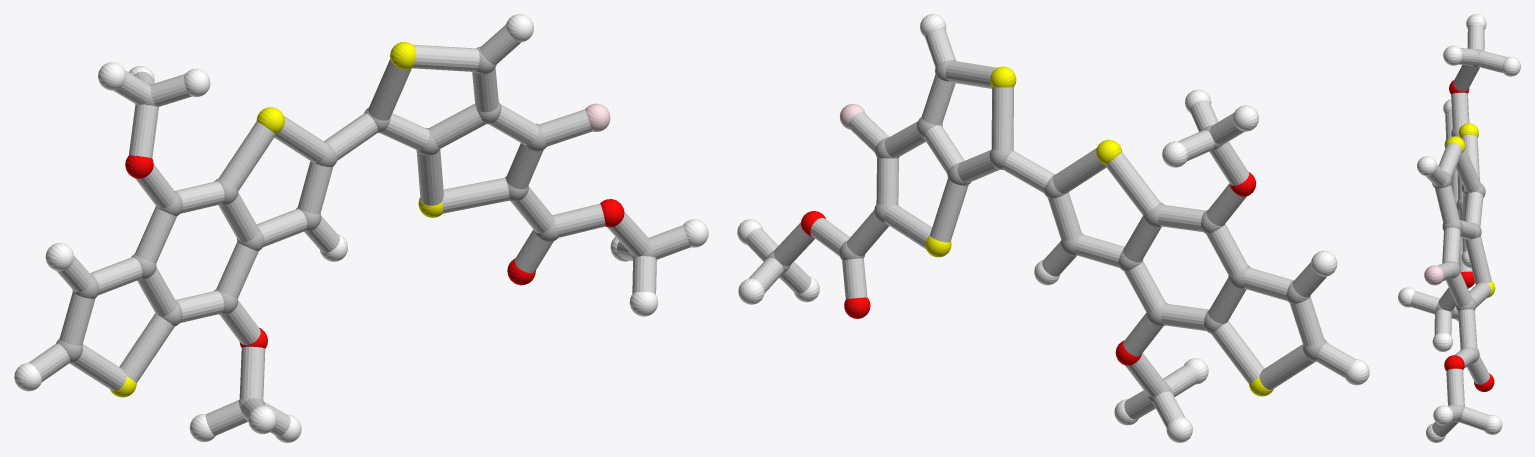
Rendered from Dimethoxy_Benzodithiophene_Phi_25_Theta_190_Methylcarbonyl_3_Fluoro_Thienothiophene.glb.
The picture shows the model from 3 angles, left to right: view 1: azimuth 30°, elevation 25°; view 2: azimuth 150°, elevation 25°; view 3: azimuth 270°, elevation 25°; orthographic projection. The views are drawn at different scales.
Visible parts, largest first — view 1: grp15205, grp8689, grp1, grp7241, grp13395; view 2: grp15205, grp8689, grp1, grp7241, grp13395; view 3: grp15205, grp8689, grp1, grp13395, grp7241, grp14843.
Boxes of the visible parts, x1=… form: grp15205: x1=28, y1=25, x2=690, y2=436; grp8689: x1=14, y1=14, x2=708, y2=442; grp1: x1=56, y1=46, x2=655, y2=410; grp7241: x1=110, y1=42, x2=443, y2=397; grp13395: x1=125, y1=155, x2=624, y2=348; grp15205: x1=746, y1=29, x2=1354, y2=427; grp8689: x1=737, y1=14, x2=1369, y2=442; grp1: x1=766, y1=59, x2=1327, y2=404; grp7241: x1=925, y1=66, x2=1273, y2=396; grp13395: x1=801, y1=172, x2=1256, y2=365; grp15205: x1=1410, y1=25, x2=1506, y2=436; grp8689: x1=1398, y1=14, x2=1520, y2=442; grp1: x1=1432, y1=49, x2=1485, y2=422; grp13395: x1=1444, y1=80, x2=1494, y2=391; grp7241: x1=1445, y1=123, x2=1495, y2=297; grp14843: x1=1424, y1=265, x2=1444, y2=285.
Bounding box in the file's own units: 16.64 × 9.23 × 3.63.
